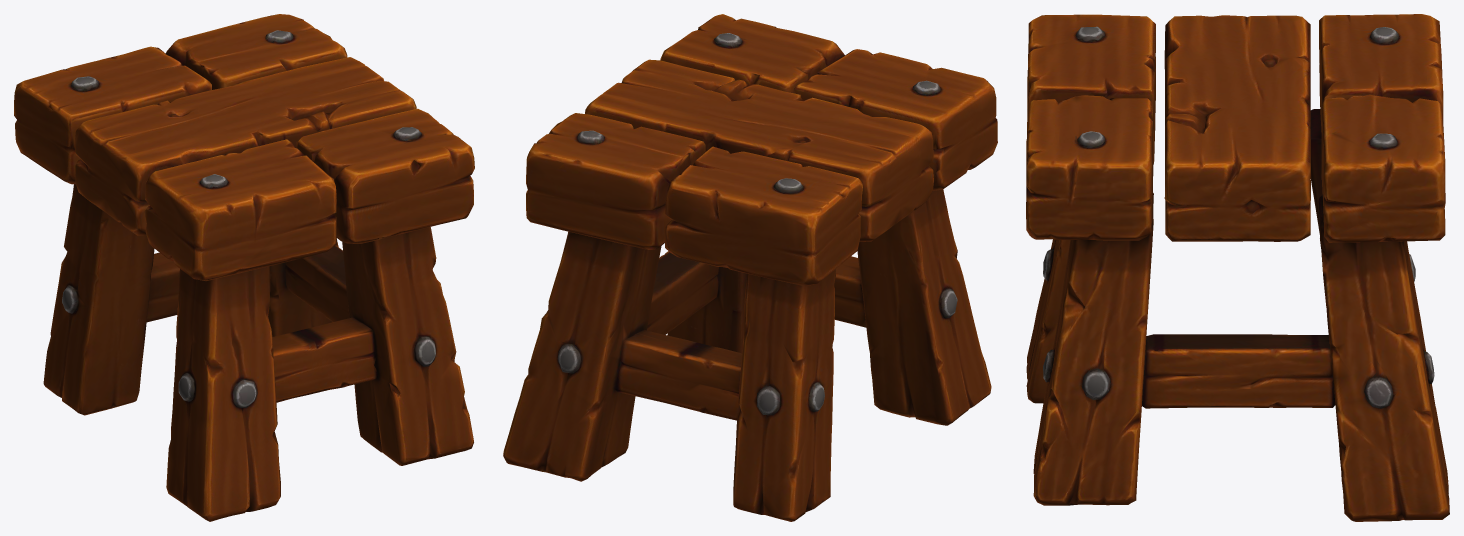
File: stool.glb
3 views of the same model, side by side, from view 1: azimuth 30°, elevation 25°; view 2: azimuth 150°, elevation 25°; view 3: azimuth 270°, elevation 25° (orthographic). The views are drawn at different scales.
Parts seen in each view (by area): view 1: tripo_node_edc5248c-0777-4aae-b090-d4f62de084f7; view 2: tripo_node_edc5248c-0777-4aae-b090-d4f62de084f7; view 3: tripo_node_edc5248c-0777-4aae-b090-d4f62de084f7.
Part boxes in pixels (left/top/right/bottom): tripo_node_edc5248c-0777-4aae-b090-d4f62de084f7: left=14, top=14, right=474, bottom=521; tripo_node_edc5248c-0777-4aae-b090-d4f62de084f7: left=503, top=14, right=997, bottom=521; tripo_node_edc5248c-0777-4aae-b090-d4f62de084f7: left=1026, top=14, right=1449, bottom=521.
Bounding box in the file's own units: 0.9171 × 0.9315 × 1.
Materials: 1 (1 with a texture image).
